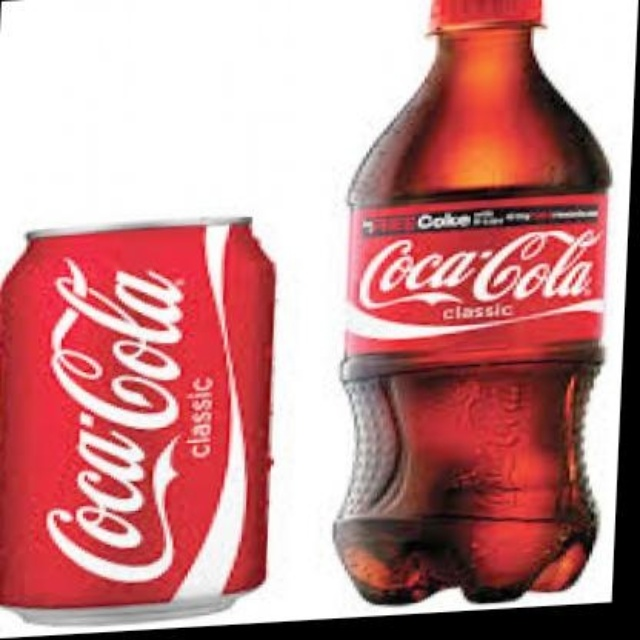trash: (334, 0, 609, 602), (0, 222, 274, 606)
